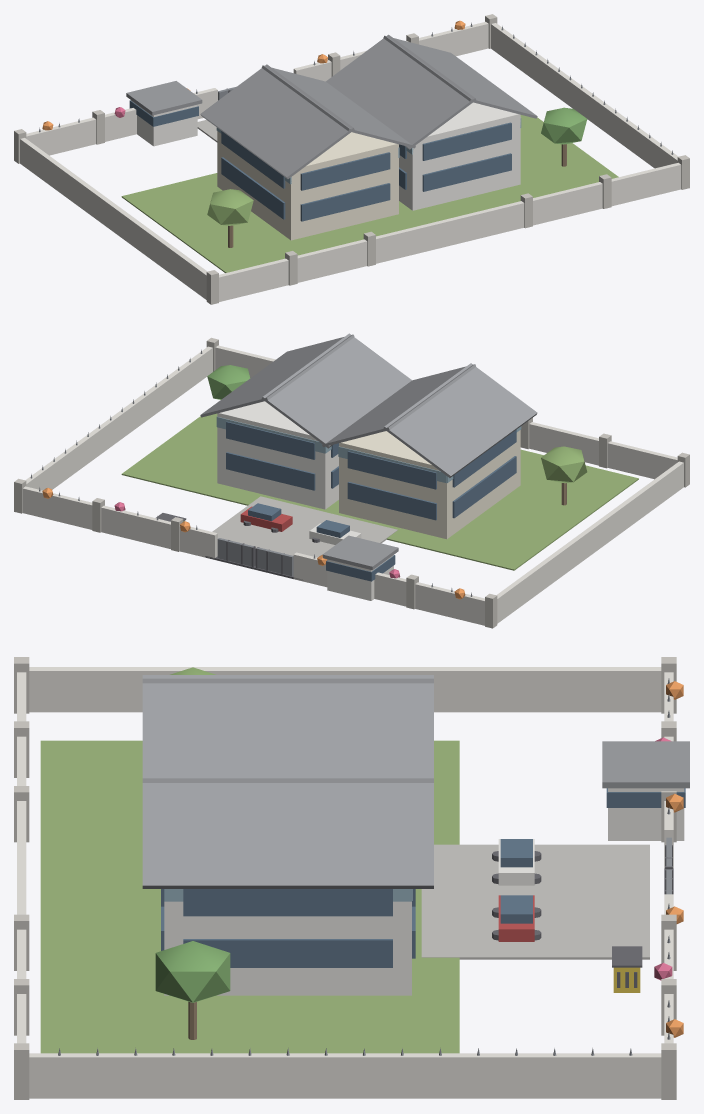
The model's file is villa_asokoro_2.glb.
The picture shows the model from 3 angles, top to bottom: view 1: azimuth 30°, elevation 25°; view 2: azimuth 150°, elevation 25°; view 3: azimuth 270°, elevation 25°; orthographic projection. The views are drawn at different scales.
Visible parts, largest first — view 1: BLD_villa_asokoro_2; view 2: BLD_villa_asokoro_2; view 3: BLD_villa_asokoro_2.
Boxes of the visible parts, <box> form: BLD_villa_asokoro_2: <box>14,14,689,304</box>; BLD_villa_asokoro_2: <box>14,333,689,628</box>; BLD_villa_asokoro_2: <box>14,657,689,1099</box>.
Size of the model in its own units: 48.8 by 10.24 by 35.5.
